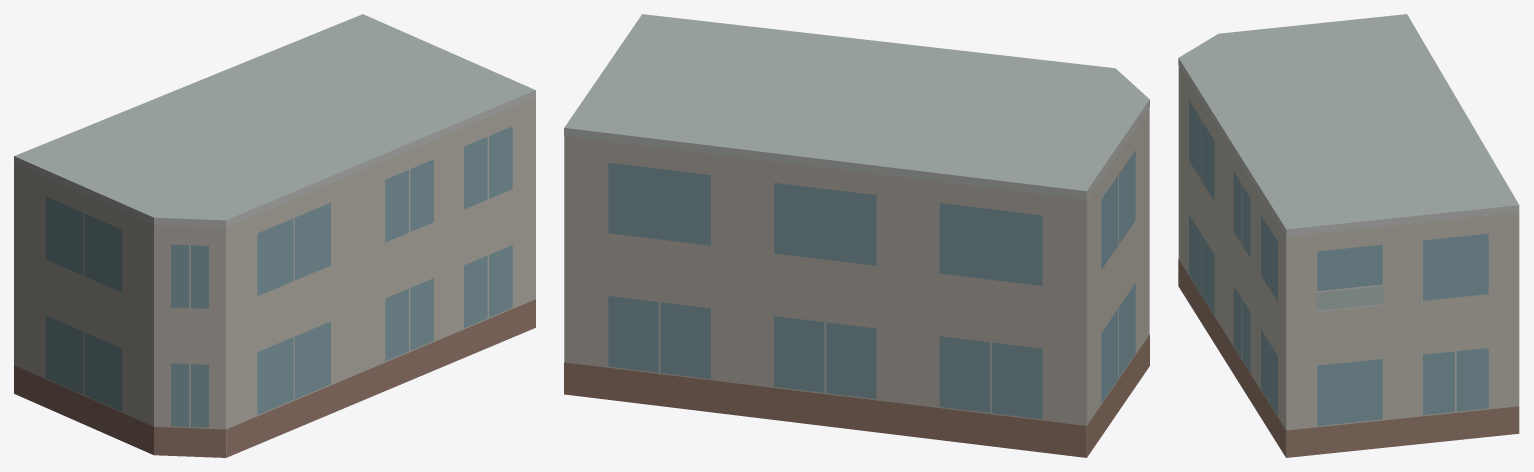
The model's file is survey-upis-32620405.glb.
3 renders of one model, left to right at view 1: azimuth 30°, elevation 25°; view 2: azimuth 150°, elevation 25°; view 3: azimuth 270°, elevation 25°, orthographic. The views are drawn at different scales.
Parts seen in each view (by area): view 1: survey-upis-32620405.tmp; view 2: survey-upis-32620405.tmp; view 3: survey-upis-32620405.tmp.
Boxes of the visible parts, x1=… form: survey-upis-32620405.tmp: x1=14, y1=14, x2=535, y2=457; survey-upis-32620405.tmp: x1=564, y1=14, x2=1149, y2=457; survey-upis-32620405.tmp: x1=1178, y1=14, x2=1519, y2=457.
Size of the model in its own units: 15.88 by 7.85 by 10.63.
